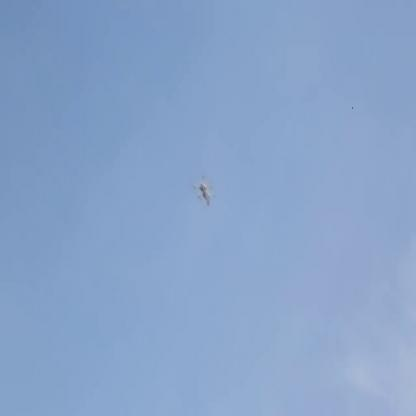drone: (193, 175, 217, 209)
